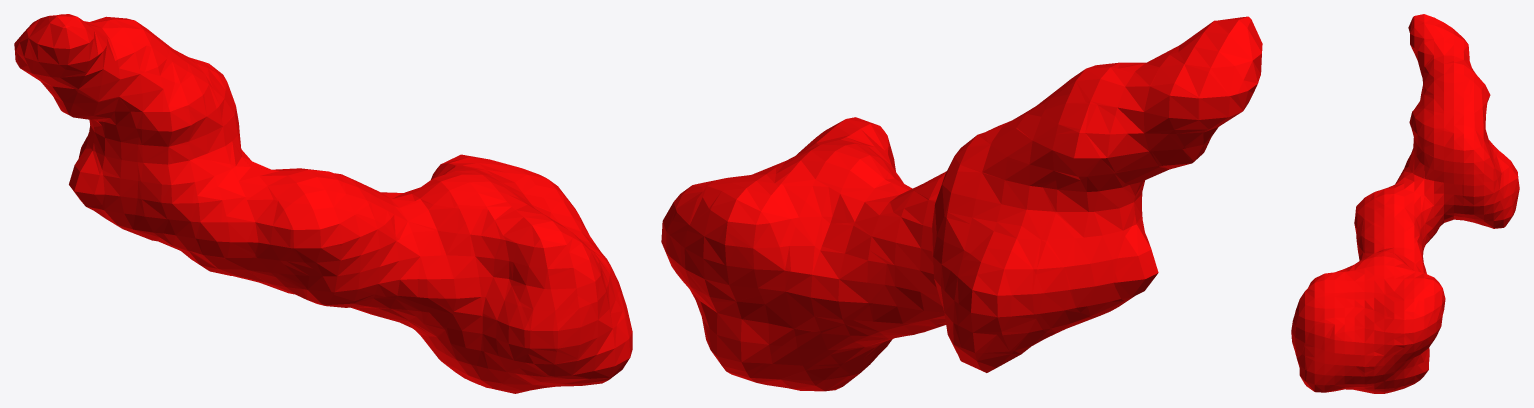
The model's file is rplT_coarse.dae.
3 views of the same model, side by side, from view 1: azimuth 30°, elevation 25°; view 2: azimuth 150°, elevation 25°; view 3: azimuth 270°, elevation 25° (orthographic). The views are drawn at different scales.
Visible parts, largest first — view 1: rplT; view 2: rplT; view 3: rplT.
Boxes of the visible parts, box(x1,y1,x2,y2) form: rplT: box(14, 14, 632, 393); rplT: box(661, 16, 1262, 391); rplT: box(1291, 14, 1519, 393).
Bounding box in the file's own units: 73.98 × 58.21 × 46.96.
